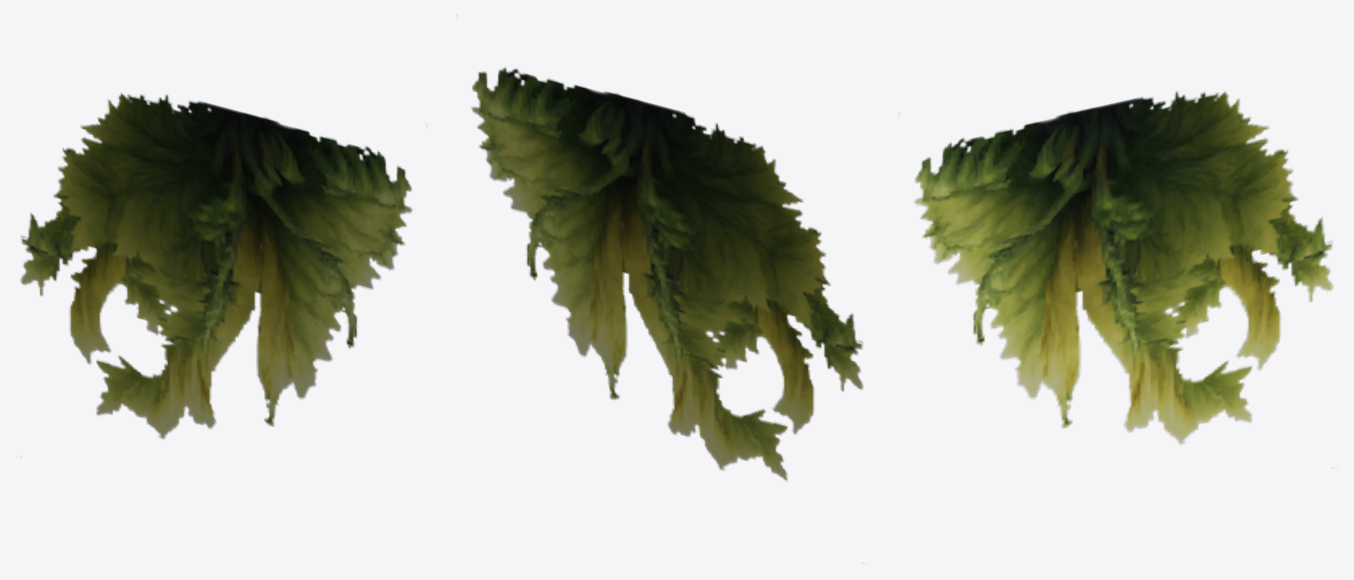
The model's file is TheOctagon_Tree_Liquen_3.gltf.
3 views of the same model, side by side, from view 1: azimuth 30°, elevation 25°; view 2: azimuth 210°, elevation 25°; view 3: azimuth 270°, elevation 25° (orthographic). The views are drawn at different scales.
Visible parts, largest first — view 1: TheOctagon_Tree_Liquen_3; view 2: TheOctagon_Tree_Liquen_3; view 3: TheOctagon_Tree_Liquen_3.
Boxes of the visible parts, x1,y1,x2,y2 form: TheOctagon_Tree_Liquen_3: [20, 93, 412, 439]; TheOctagon_Tree_Liquen_3: [471, 67, 863, 480]; TheOctagon_Tree_Liquen_3: [914, 91, 1333, 444].
Bounding box in the file's own units: 1.12 × 2.4 × 2.12.
1 material, 1 textured.
